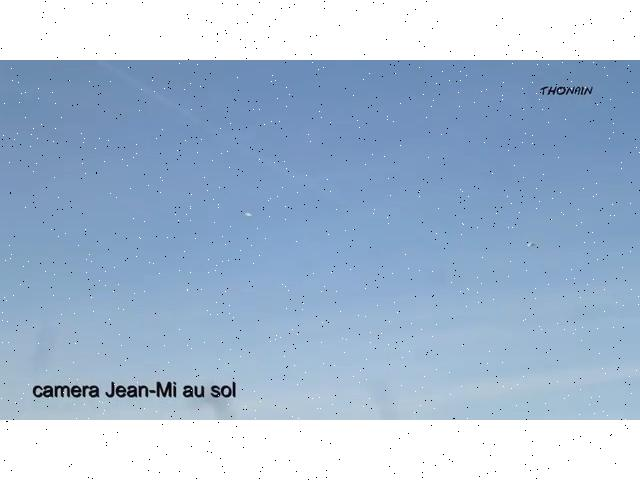Anti-Drone: (519, 238, 551, 254), (238, 211, 258, 224)
